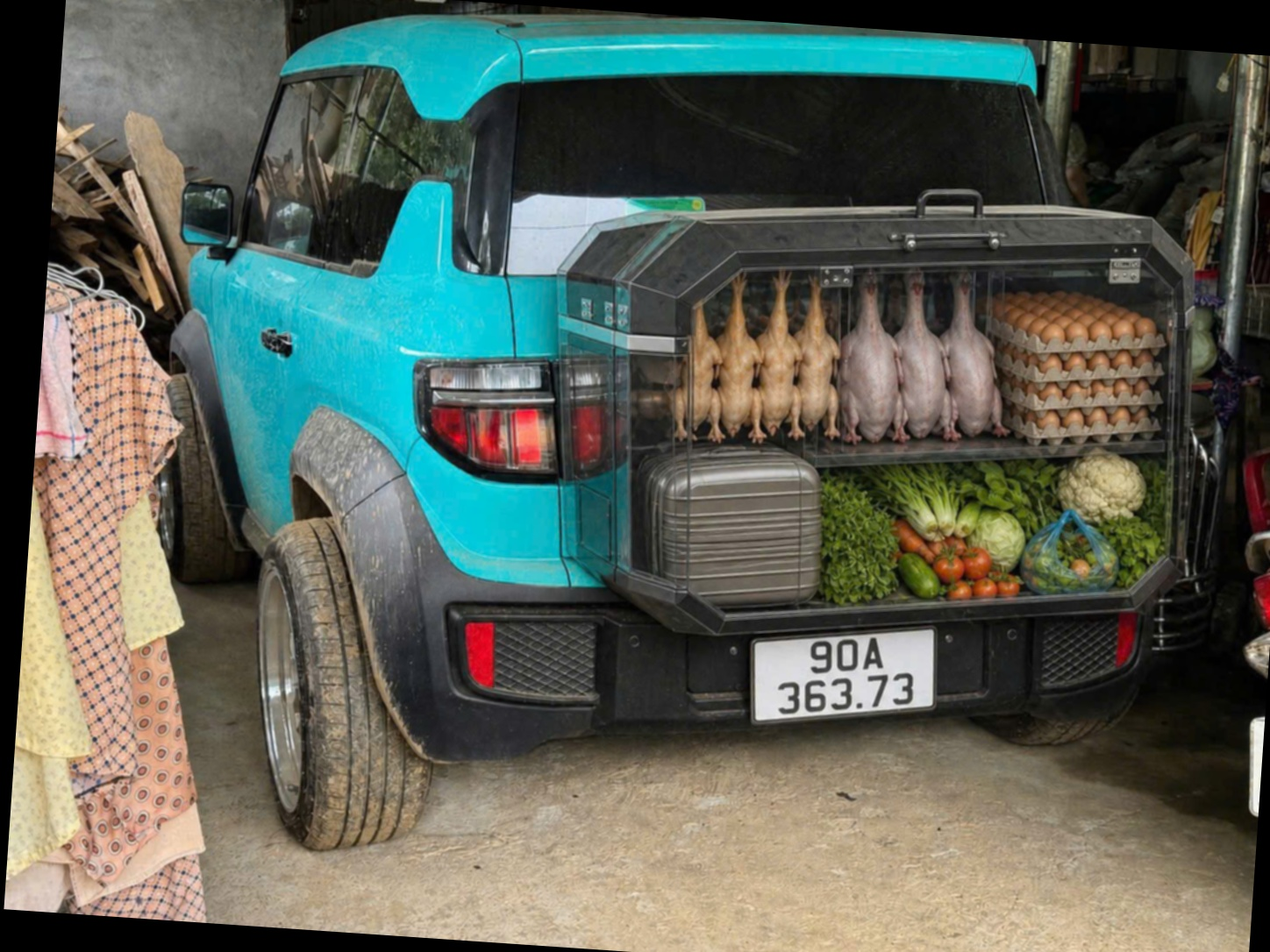Bien-so: (766, 589, 950, 697)
